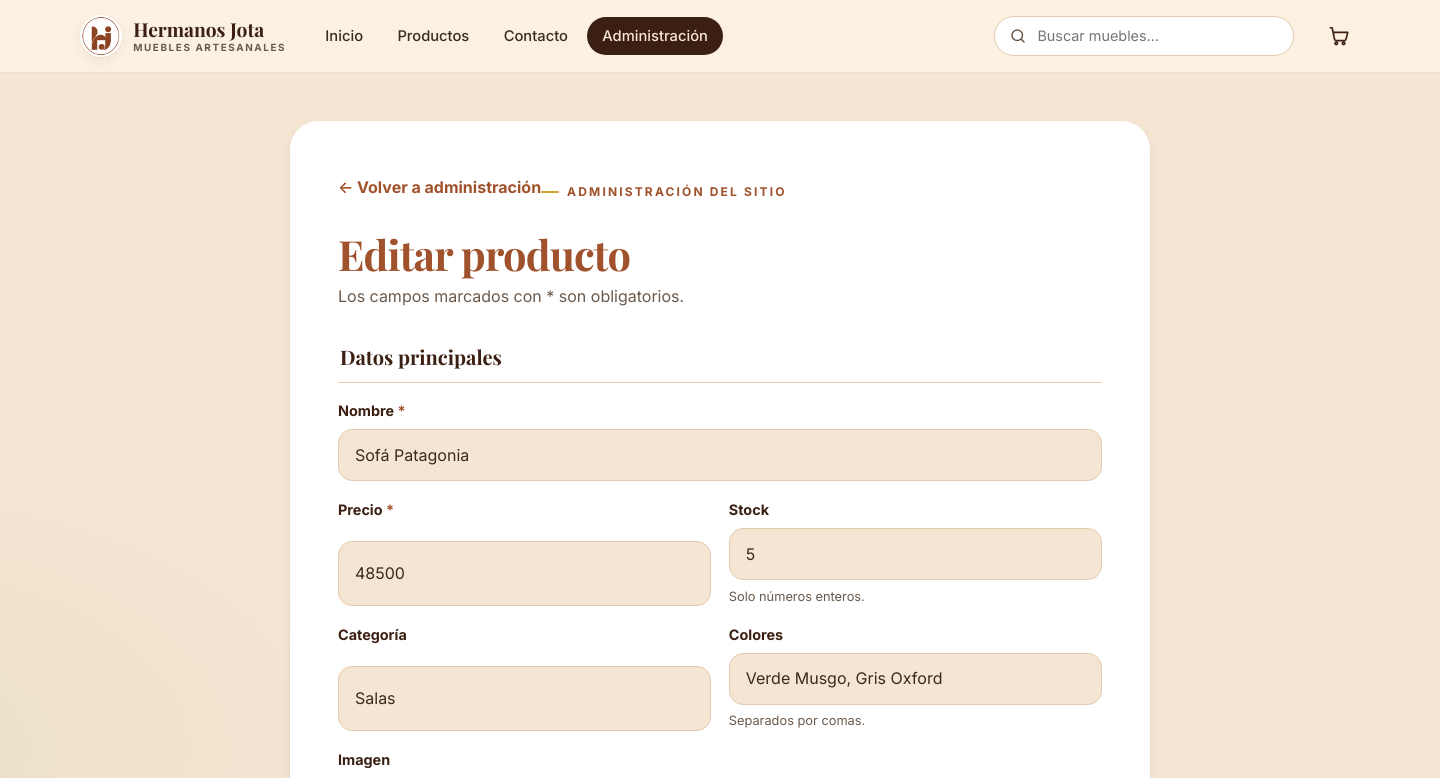
Scenario: editar carga los datos del producto y envía PUT con los cambios
Expected: the field labelled "Nombre *" holds "Sofá Patagonia", [338,429,1102,481]
Expected: the field labelled "Colores" holds "Verde Musgo, Gris Oxford", [729,653,1102,705]
Replace the text in the number field labelled "Precio *" with "45000" at (525, 574), box [338,541,711,606]
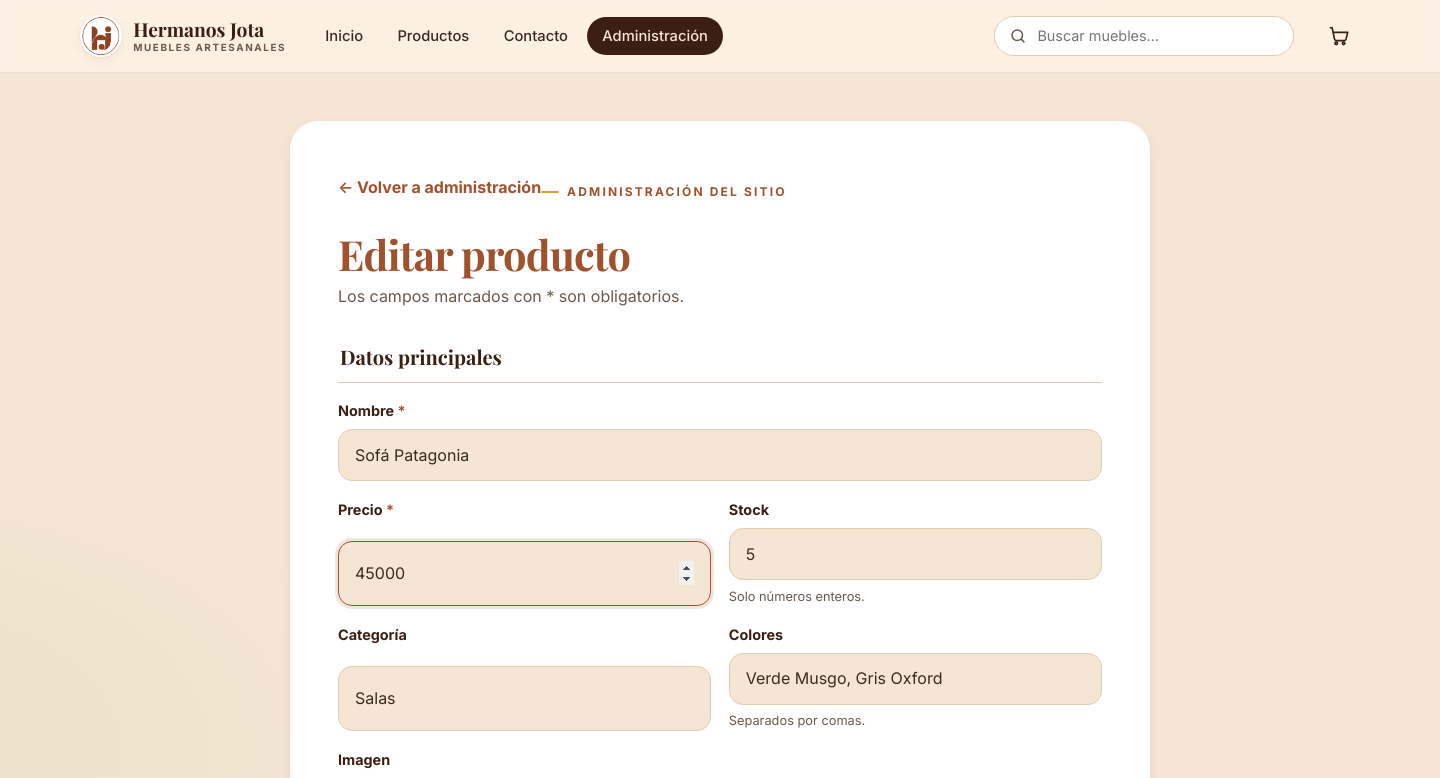
Clear the field labelled "Stock" at (915, 554), box [729,528,1102,580]
(page scrolled)
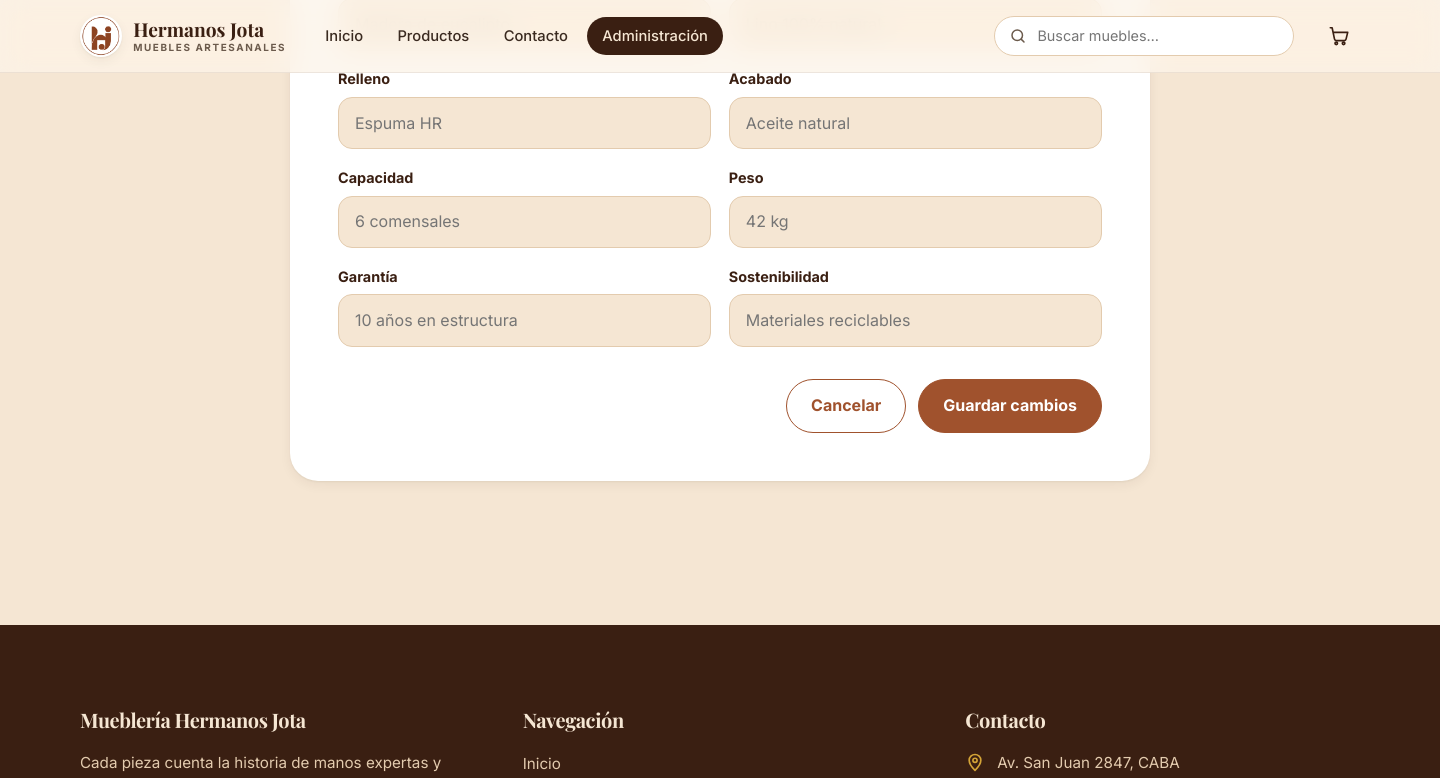
Click the button "Guardar cambios".
click(1010, 406)  # box [918,379,1102,433]
(page scrolled)
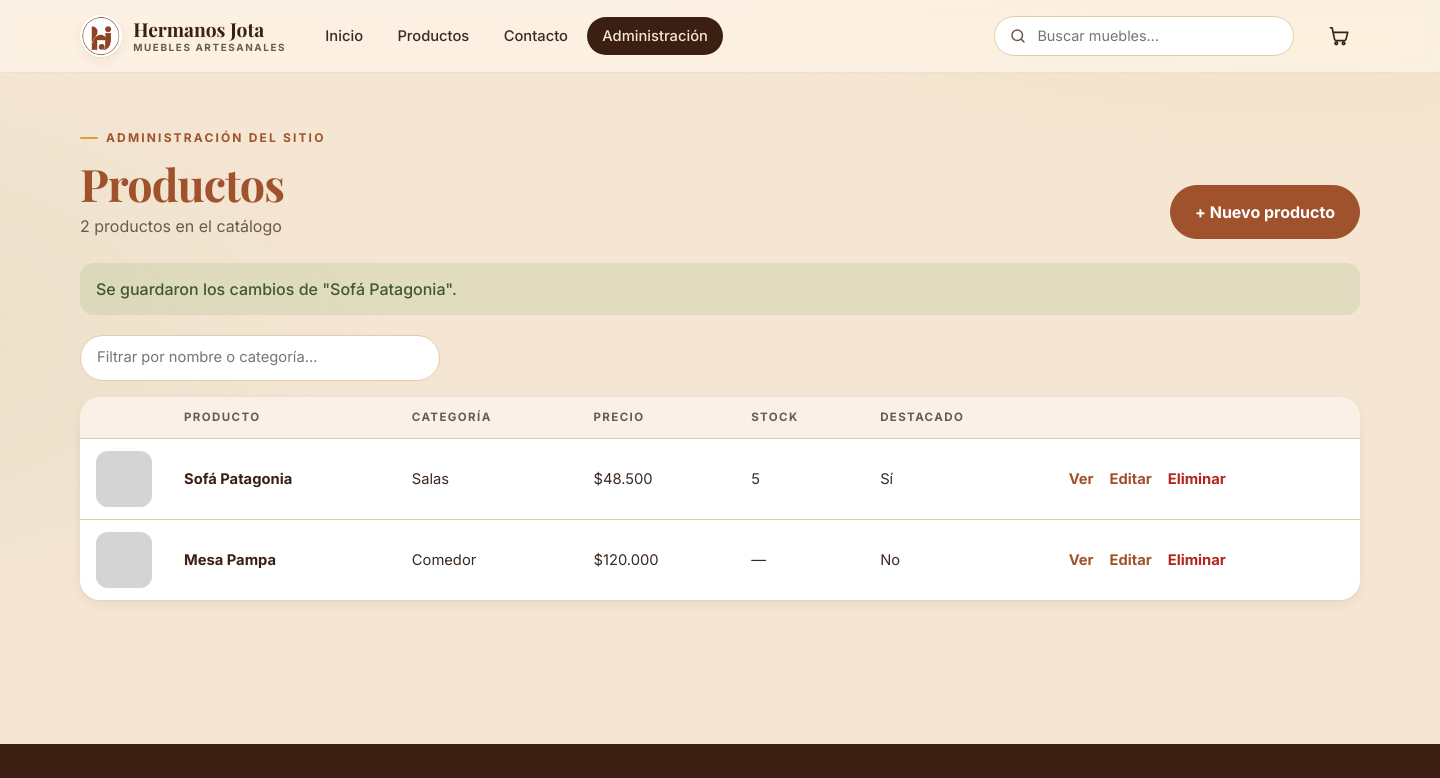
Now the message reads "Se guardaron los cambios de \"Sofá Patagonia\".", box [96,278,457,298]
